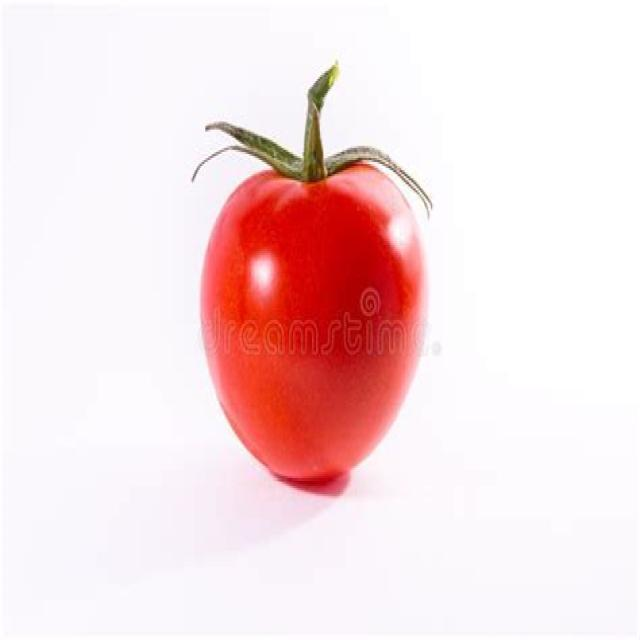Tomato: (197, 67, 433, 497)
